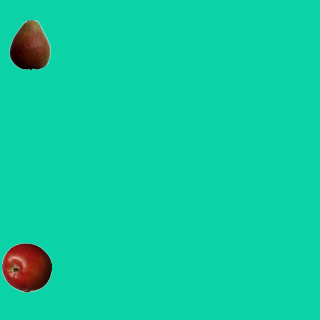Apple Braeburn: (1, 242, 51, 292)
Pear Forelle: (4, 19, 54, 69)
